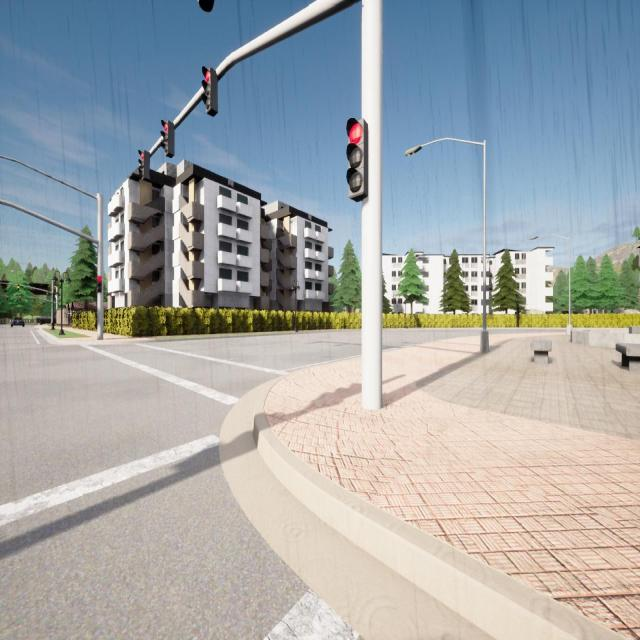Vehicle: (10, 316, 24, 328)
traffic_light: (346, 118, 368, 202), (202, 66, 218, 117), (160, 120, 175, 158), (138, 150, 150, 181), (96, 276, 102, 292), (18, 284, 20, 292), (19, 296, 21, 301), (34, 297, 36, 302), (7, 296, 8, 301)
